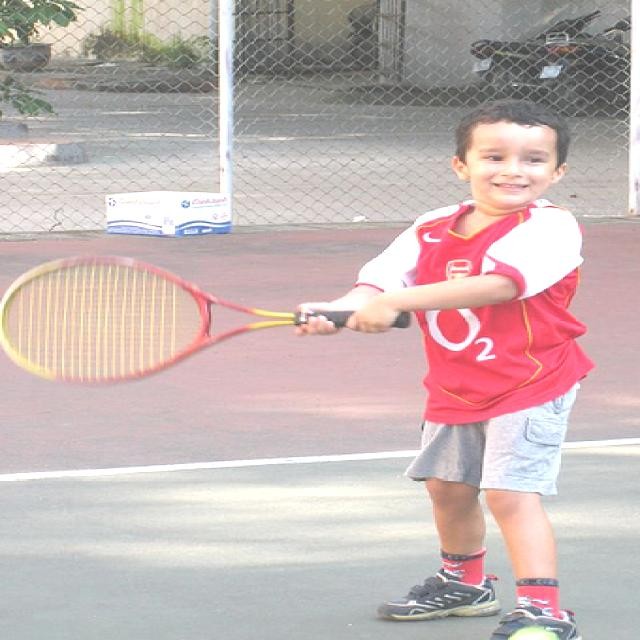Vehicle: (462, 12, 600, 98), (538, 15, 634, 121)
